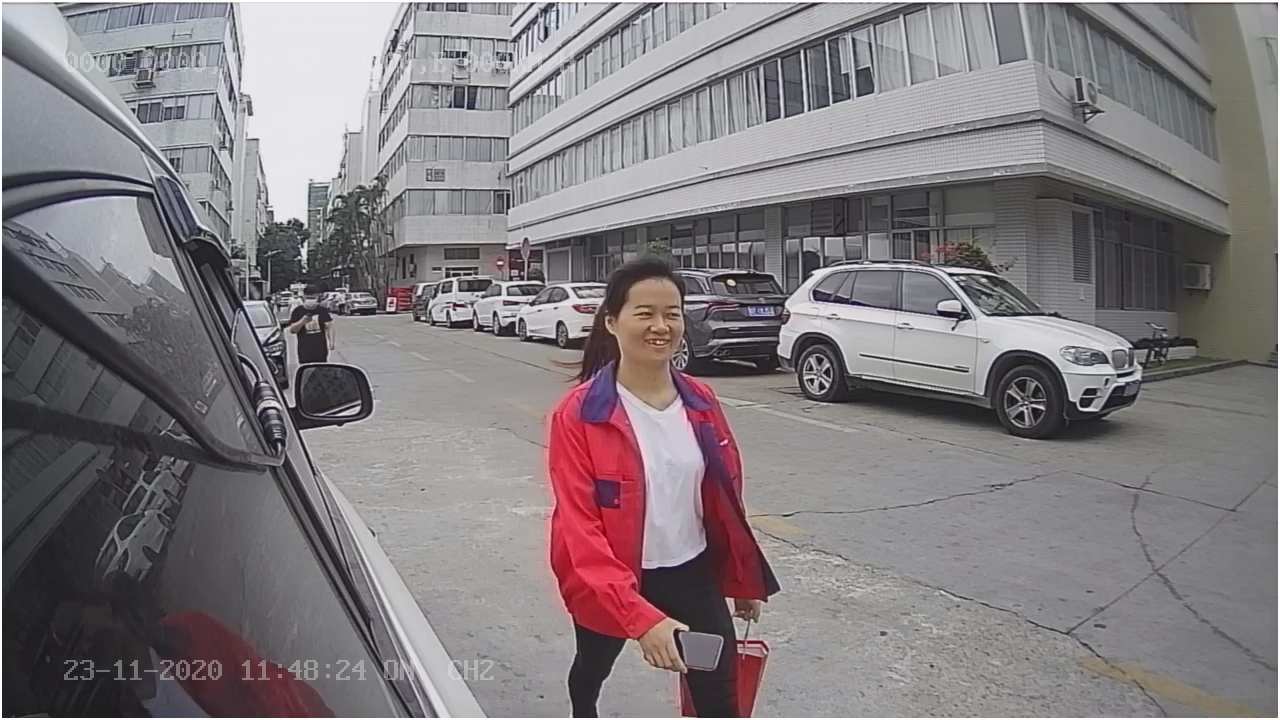person: (543, 258, 784, 664)
